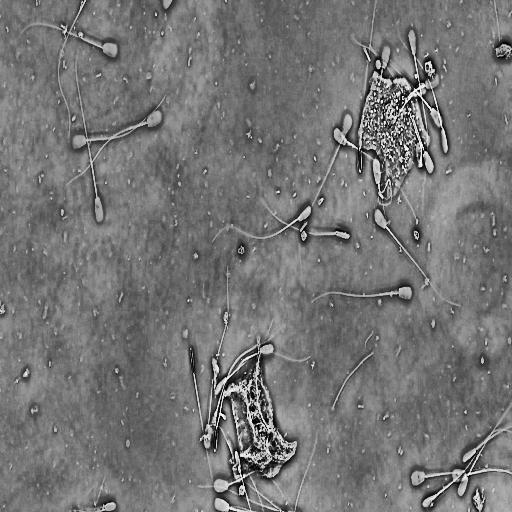dirt-particles: (355, 40, 433, 207), (491, 36, 512, 68), (209, 352, 221, 391), (471, 486, 488, 512), (299, 221, 310, 243), (223, 309, 230, 331), (236, 244, 245, 258), (238, 485, 247, 499), (413, 228, 421, 243)
loose-tail: (57, 0, 89, 140), (331, 347, 377, 412), (293, 428, 321, 512)
normal: (347, 28, 444, 130), (372, 207, 464, 309), (332, 124, 421, 227), (64, 107, 164, 190), (421, 426, 512, 511), (397, 32, 449, 155), (187, 342, 221, 512), (304, 110, 354, 222), (74, 59, 106, 227), (210, 203, 315, 247), (258, 195, 351, 241), (357, 0, 378, 178), (213, 468, 296, 512), (21, 22, 119, 59), (407, 28, 429, 181), (236, 342, 274, 421), (307, 285, 415, 306), (410, 466, 512, 488)
